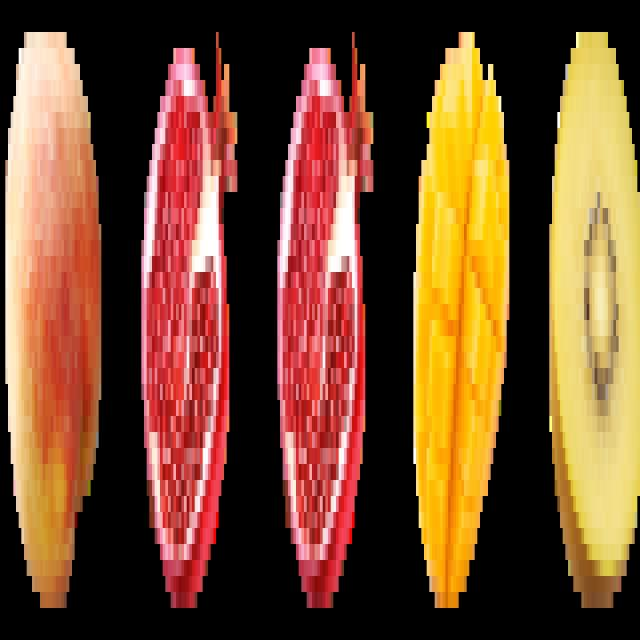kiwifruit: (546, 16, 640, 608)
mango: (411, 19, 512, 631)
peach: (2, 23, 104, 618)
pomegranate: (273, 22, 373, 620), (138, 28, 237, 620)
